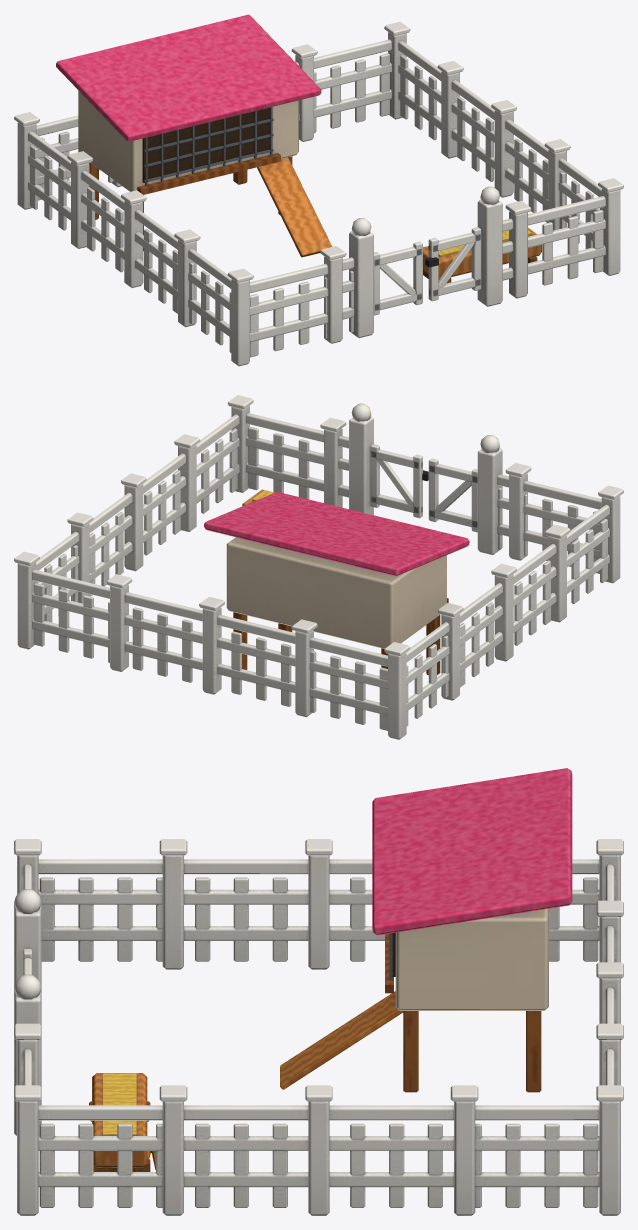
File: angora_hutch.glb
3 renders of one model, top to bottom at view 1: azimuth 30°, elevation 25°; view 2: azimuth 150°, elevation 25°; view 3: azimuth 270°, elevation 25°, orthographic. The views are drawn at different scales.
Visible parts, largest first — view 1: angora_hutch, gate1, gate0; view 2: angora_hutch, gate1, gate0; view 3: angora_hutch.
Boxes of the visible parts, x1,y1,x2,y2 form: angora_hutch: (14, 14, 623, 366); gate1: (425, 227, 481, 301); gate0: (374, 241, 422, 315); angora_hutch: (14, 395, 623, 739); gate1: (370, 444, 428, 518); gate0: (428, 458, 477, 532); angora_hutch: (14, 768, 623, 1215).
Size of the model in its own units: 1.99 by 0.7573 by 1.99.
1 material, 1 textured.
